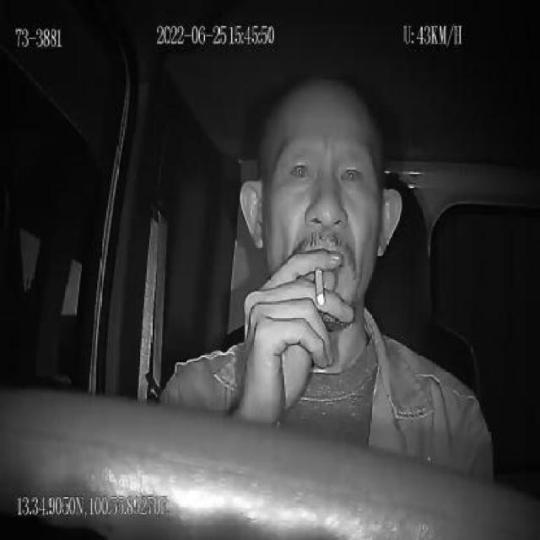smoking: (314, 268, 327, 307)
